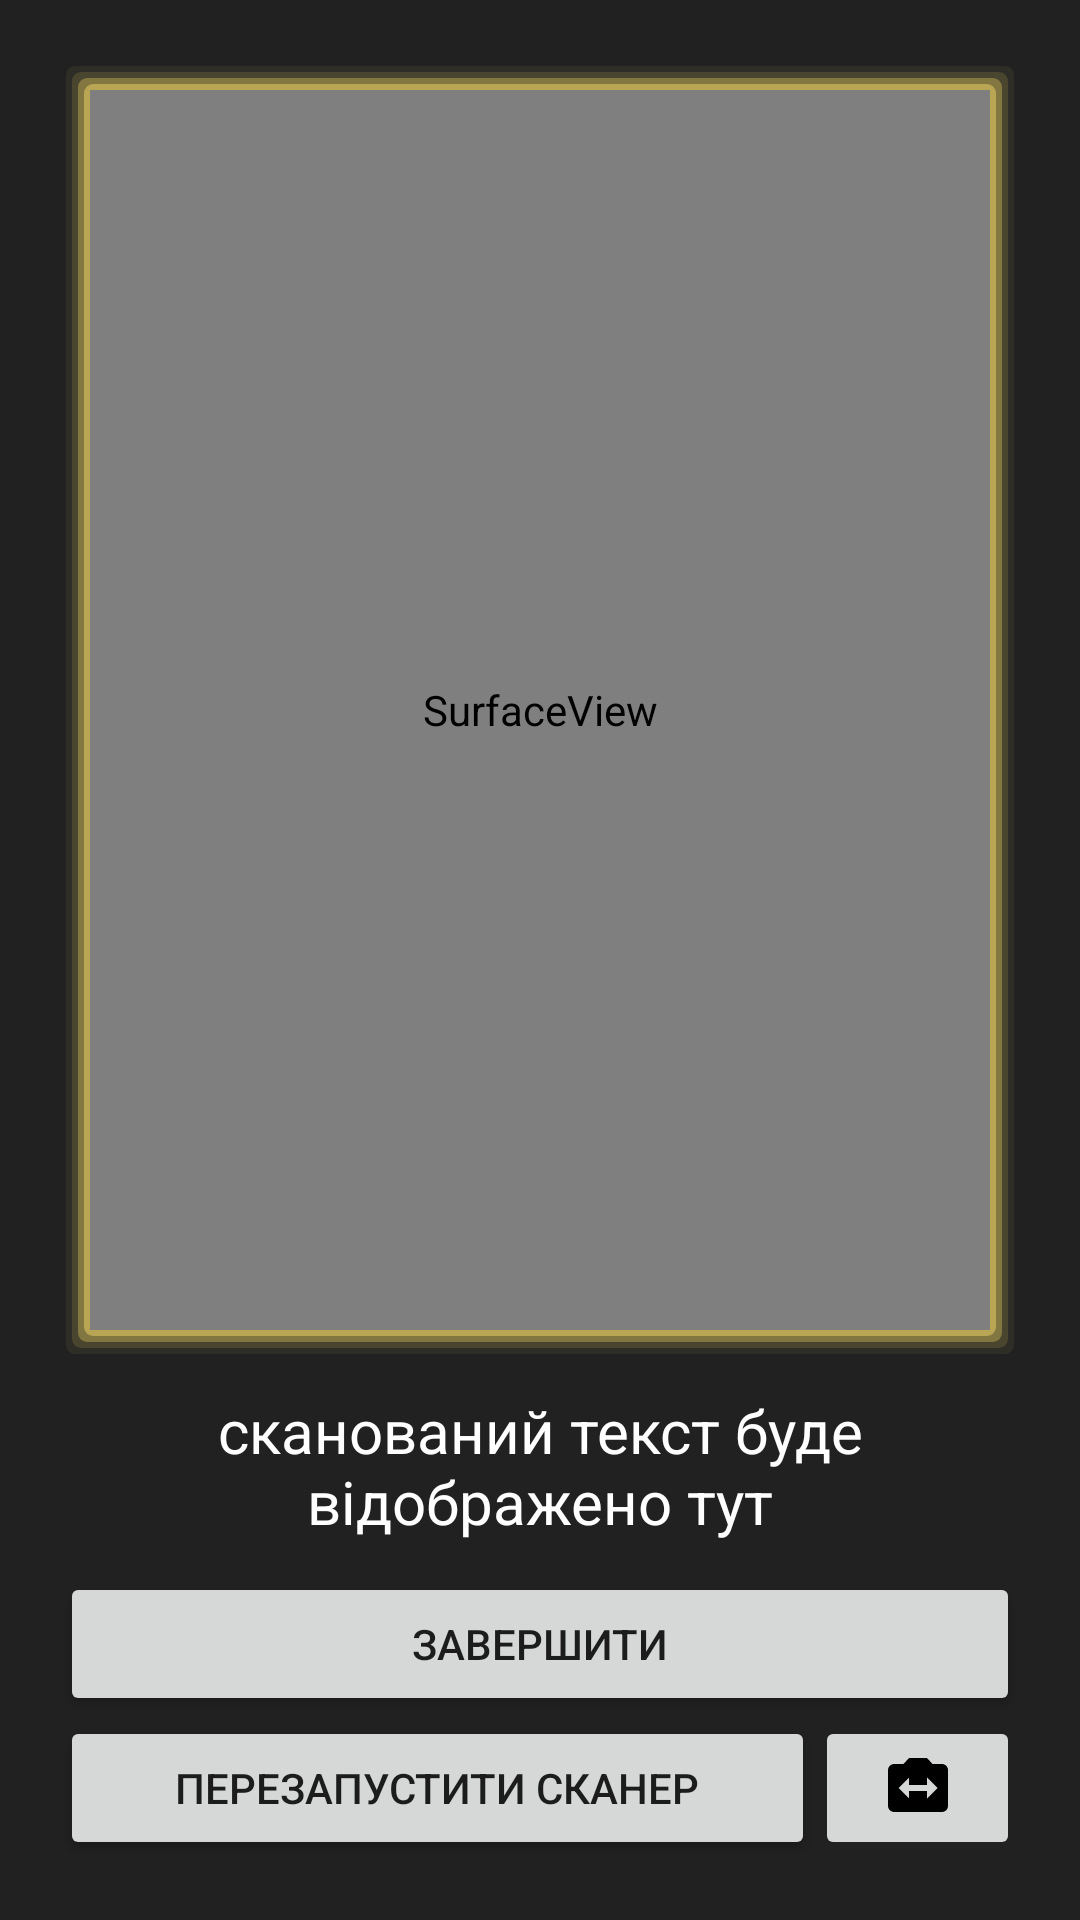

Named icons in this screenshot (1080px x 1920px) and their centers, (x=x, y=y):
switch: (x=917, y=1788)
